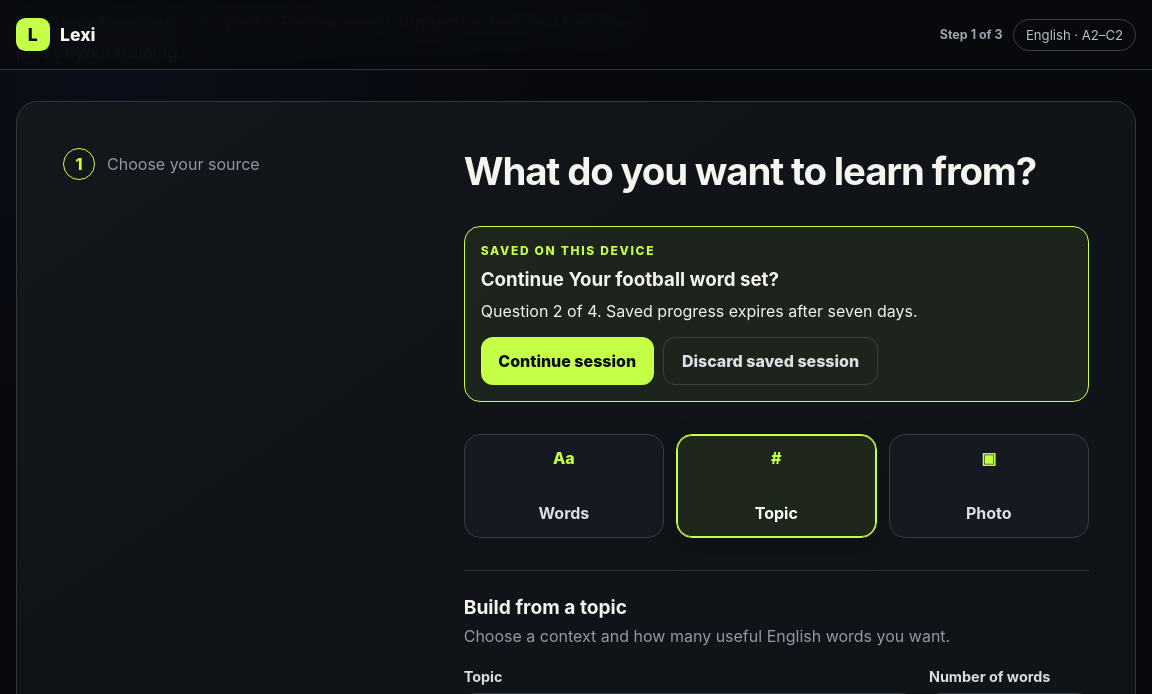
Test: VocabularyPage › offers explicit continuation of a validated interrupted training session
(page scrolled)
Click the button "Continue session" at (567, 360), box [481, 336, 654, 384]
(page scrolled)
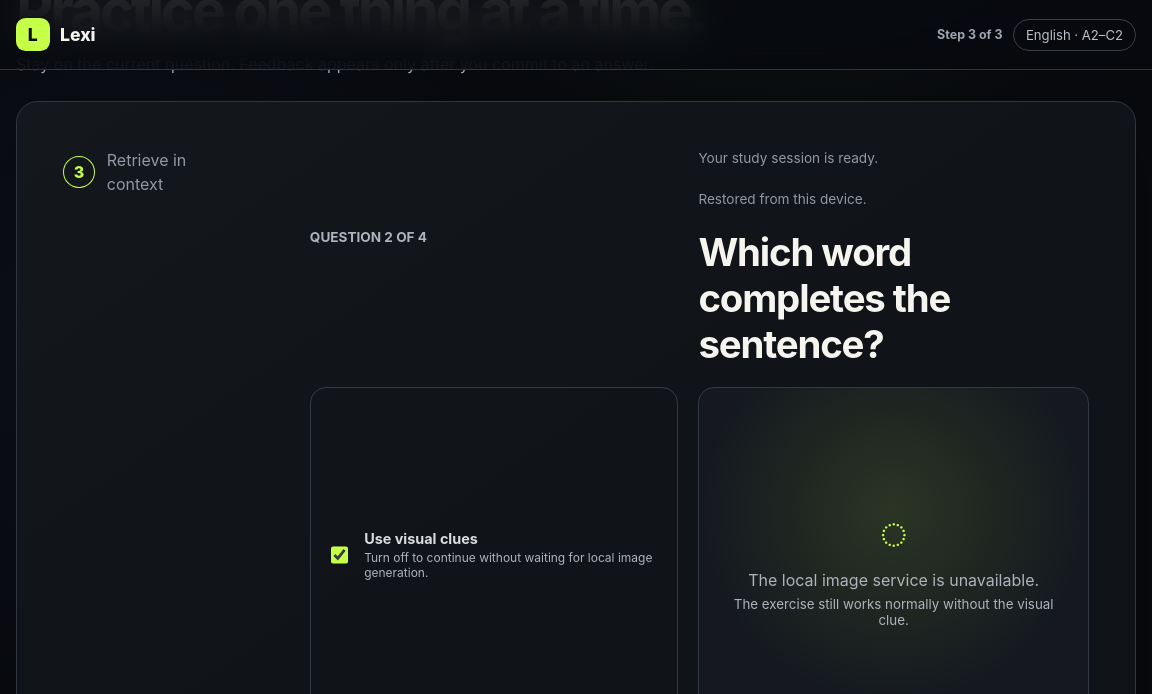
Check: the text "Question 2 of 4" is shown, box [310, 229, 427, 245]
Check: the text "Restored from this device." is shown, box [698, 191, 867, 207]
